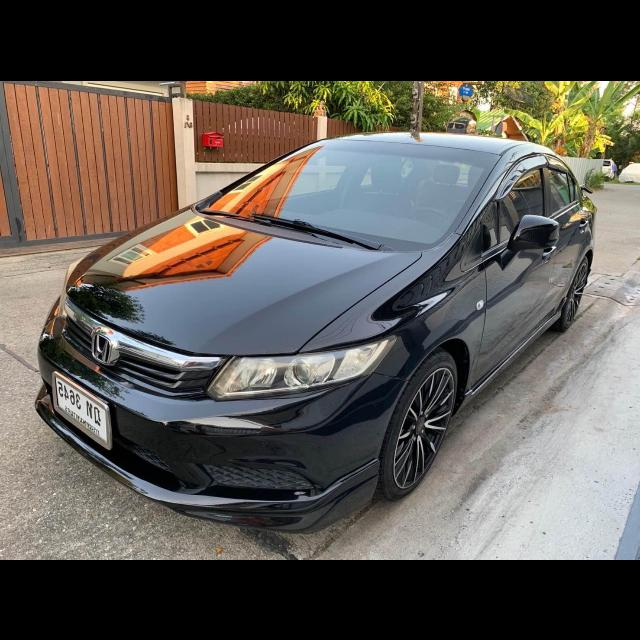cars: (29, 124, 599, 536)
